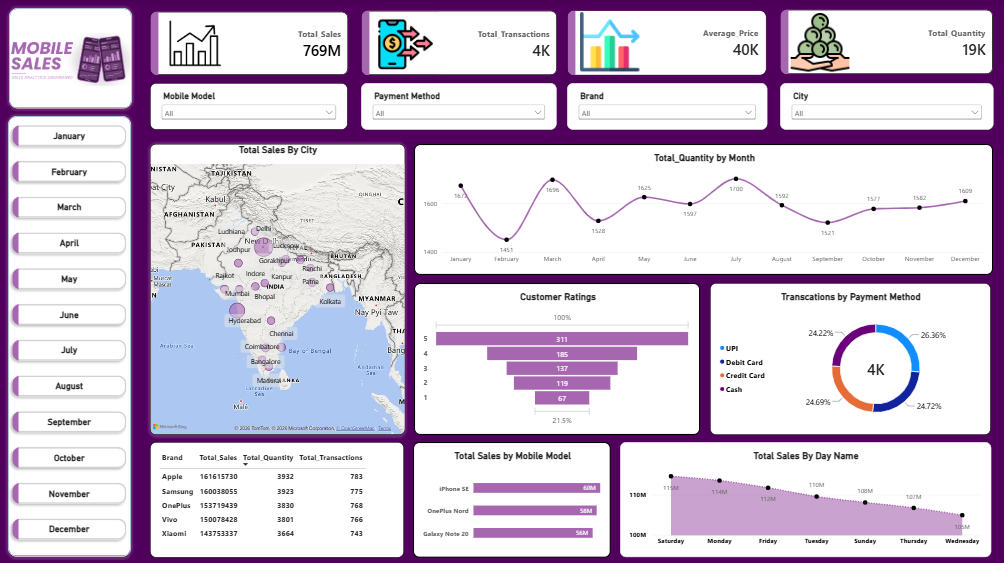

What the dashboard file says about the page in this screenshot:
{"tool":"powerbi","page":{"name":"Page 1","canvas":[1920,1080],"ordinal":0},"visuals":[{"type":"shape","box":[20,16.2,233.8,191.2],"z":0},{"type":"shape","box":[19.1,223.2,233.9,837.6],"z":1000},{"type":"advancedSlicerVisual","fields":{"Values":["Mobile Sales Data.Date.Variation.Date Hierarchy.Month"]},"box":[19.1,231.7,233.9,829.1],"z":2000},{"type":"cardVisual","fields":{"Data":["Mobile Sales Data.Total_Quantity"]},"box":[1486.1,19.1,406.1,125.4],"z":3000},{"type":"cardVisual","fields":{"Data":["Mobile Sales Data.Average_Price"]},"box":[1082.1,21.3,380.6,125.4],"z":4000},{"type":"cardVisual","fields":{"Data":["Mobile Sales Data.Total_Sales"]},"box":[289.1,23.4,378.4,123.3],"z":5000},{"type":"cardVisual","fields":{"Data":["Mobile Sales Data.Total_Transactions"]},"box":[690.9,21.3,374.2,125.4],"z":6000},{"type":"map","title":"Total Sales By City","fields":{"Category":["Mobile Sales Data.City"],"Size":["Mobile Sales Data.Total_Sales"]},"box":[289.1,276.4,484.7,552.8],"z":7000},{"type":"lineChart","fields":{"Category":["Mobile Sales Data.Date.Variation.Date Hierarchy.Month","Mobile Sales Data.Date.Variation.Date Hierarchy.Day"],"Y":["Mobile Sales Data.Total_Quantity"]},"box":[790.9,276.4,1101.3,248.7],"z":8000},{"type":"clusteredBarChart","title":"Total Sales by Mobile Model","fields":{"Category":["Mobile Sales Data.Mobile Model"],"Y":["Mobile Sales Data.Total_Sales"]},"box":[788.6,841.4,375.7,220],"z":9000},{"type":"donutChart","fields":{"Category":["Mobile Sales Data.Payment Method"],"Y":["Mobile Sales Data.Transcations"]},"box":[1354.3,540,533.6,289.1],"z":10000},{"type":"funnel","title":"Customer Ratings","fields":{"Category":["Mobile Sales Data.Customer Ratings"],"Y":["CountNonNull(Mobile Sales Data.Customer Ratings)"]},"box":[790.9,540,544.3,289.1],"z":11000},{"type":"areaChart","title":"Total Sales By Day Name","fields":{"Category":["Mobile Sales Data.names of day"],"Y":["Mobile Sales Data.Total_Sales"]},"box":[1182.9,841.4,705.7,218.6],"z":12000},{"type":"tableEx","fields":{"Values":["Mobile Sales Data.Brand","Mobile Sales Data.Total_Sales","Mobile Sales Data.Total_Quantity","Mobile Sales Data.Total_Transactions"]},"box":[289.1,841.9,482.5,220],"z":13000},{"type":"slicer","fields":{"Values":["Mobile Sales Data.Mobile Model"]},"box":[289.1,159.4,376.3,89.3],"z":14000},{"type":"slicer","fields":{"Values":["Mobile Sales Data.Payment Method"]},"box":[690.9,159.4,372,89.3],"z":15000},{"type":"slicer","fields":{"Values":["Mobile Sales Data.Brand"]},"box":[1082.1,159.4,380.6,89.3],"z":16000},{"type":"image","box":[289.1,23.4,172.2,123.3],"z":17000},{"type":"image","box":[1492.4,23.4,140.3,119.1],"z":18000},{"type":"image","box":[1105.5,25.5,116.9,112.7],"z":19000},{"type":"image","box":[712.2,34,123.3,104.2],"z":20000},{"type":"slicer","fields":{"Values":["Mobile Sales Data.City"]},"box":[1486.1,159.4,406.1,89.3],"z":21000},{"type":"image","box":[25.5,0,227.5,229.6],"z":21001}]}

Visuals, with their boxes in screenshot pixels (x1, y1, x2, y2), scaled from the page's 1920x1080 canvas onto the 1004x563 screenshot:
shape: [10,8,133,108]
shape: [10,116,132,553]
advancedSlicerVisual - Mobile Sales Data.Date.Variation.Date Hierarchy.Month: [10,121,132,553]
cardVisual - Mobile Sales Data.Total_Quantity: [777,10,989,75]
cardVisual - Mobile Sales Data.Average_Price: [566,11,765,76]
cardVisual - Mobile Sales Data.Total_Sales: [151,12,349,76]
cardVisual - Mobile Sales Data.Total_Transactions: [361,11,557,76]
"Total Sales By City" map: [151,144,405,432]
lineChart - Mobile Sales Data.Date.Variation.Date Hierarchy.Month x Mobile Sales Data.Date.Variation.Date Hierarchy.Day: [414,144,989,274]
"Total Sales by Mobile Model" clusteredBarChart: [412,439,609,553]
donutChart - Mobile Sales Data.Payment Method x Mobile Sales Data.Transcations: [708,282,987,432]
"Customer Ratings" funnel: [414,282,698,432]
"Total Sales By Day Name" areaChart: [619,439,988,553]
tableEx - Mobile Sales Data.Brand x Mobile Sales Data.Total_Sales: [151,439,403,554]
slicer - Mobile Sales Data.Mobile Model: [151,83,348,130]
slicer - Mobile Sales Data.Payment Method: [361,83,556,130]
slicer - Mobile Sales Data.Brand: [566,83,765,130]
image: [151,12,241,76]
image: [780,12,854,74]
image: [578,13,639,72]
image: [372,18,437,72]
slicer - Mobile Sales Data.City: [777,83,989,130]
image: [13,0,132,120]
